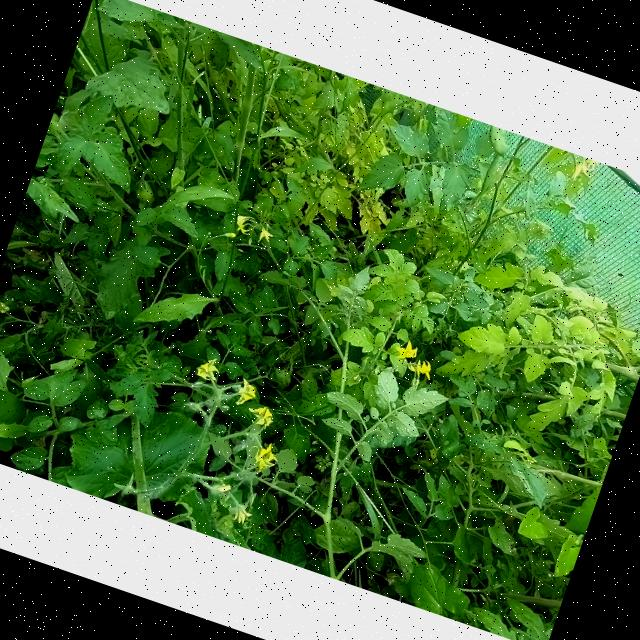Flowers: (248, 440, 282, 475), (242, 402, 278, 432), (230, 376, 260, 411), (192, 353, 224, 385), (568, 156, 600, 188), (391, 336, 420, 366), (404, 356, 436, 381), (228, 500, 255, 528), (232, 213, 257, 238), (256, 222, 278, 245), (210, 478, 232, 500), (0, 300, 12, 316)
